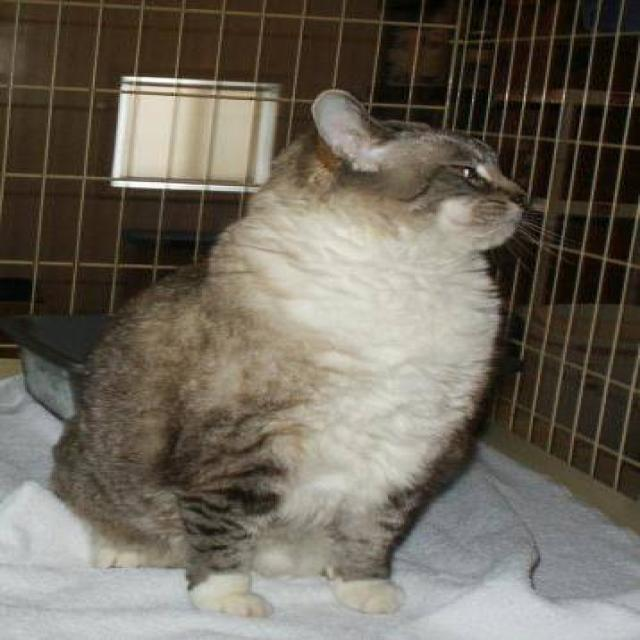cat: (46, 86, 558, 618)
